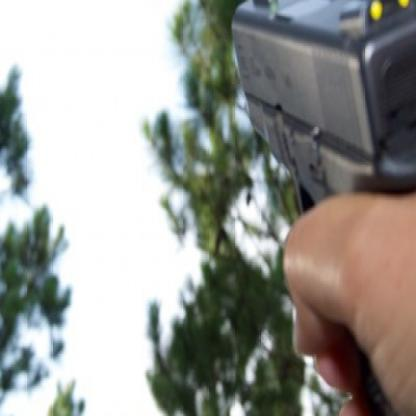gun: (222, 0, 415, 415)
